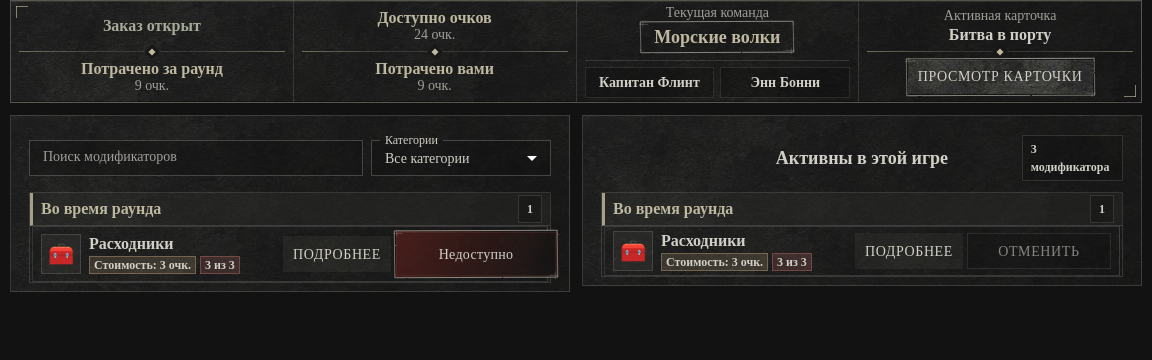
it: GameModifiersPage › shows a compact active-team status with a detailed tooltip
Expected: the button "Недоступно" is shown, [439,244,513,264]
Hover over the message named "Ваша команда сейчас играет этот раунд - активировать модификаторы для неё нельзя.".
mouse_move(476, 254)  # box [395,231,557,277]
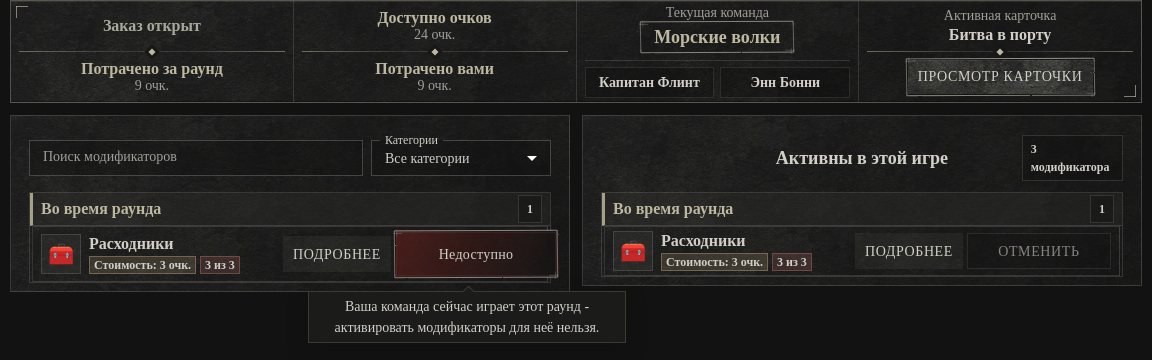
Now the tooltip shows "Ваша команда сейчас играет этот раунд - активировать модификаторы для неё нельзя.", box [335,299,599,335]
